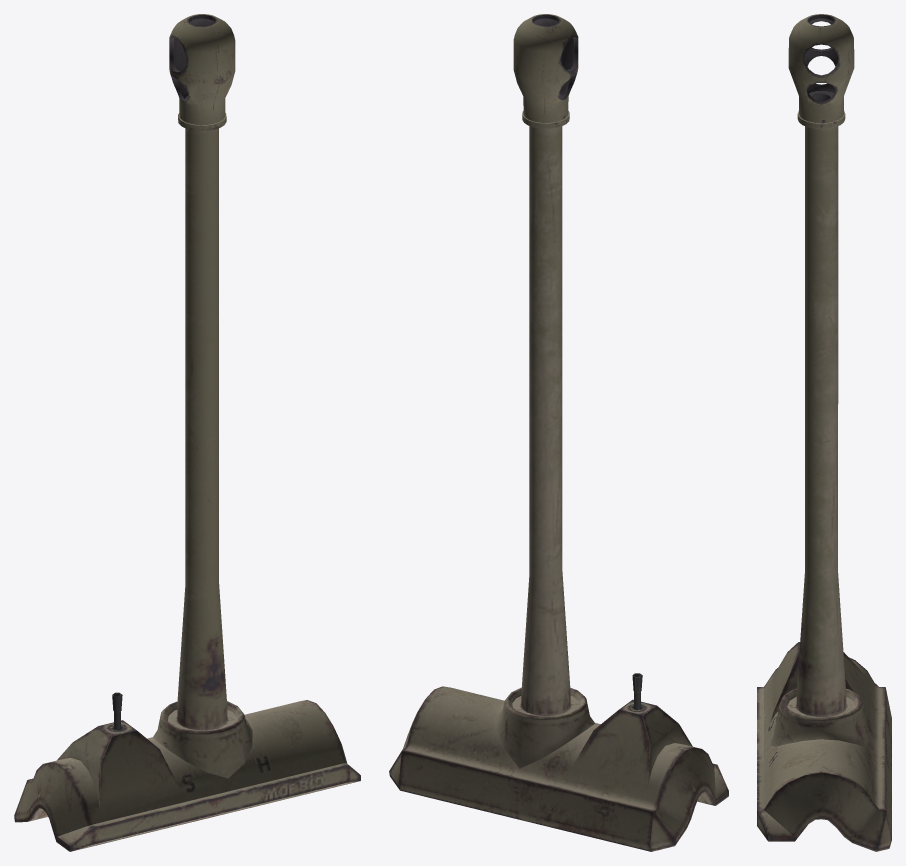
File: Gun_04.glb
3 renders of one model, left to right at view 1: azimuth 30°, elevation 25°; view 2: azimuth 150°, elevation 25°; view 3: azimuth 270°, elevation 25°, orthographic. The views are drawn at different scales.
Visible parts, largest first — view 1: set_0_group_0; view 2: set_0_group_0; view 3: set_0_group_0.
Boxes of the visible parts, bbox=[...] form: set_0_group_0: bbox=[14, 14, 360, 851]; set_0_group_0: bbox=[389, 14, 728, 851]; set_0_group_0: bbox=[757, 14, 891, 851].
Bounding box in the file's own units: 1.33 × 3.45 × 0.5453.
1 material, 1 textured.
